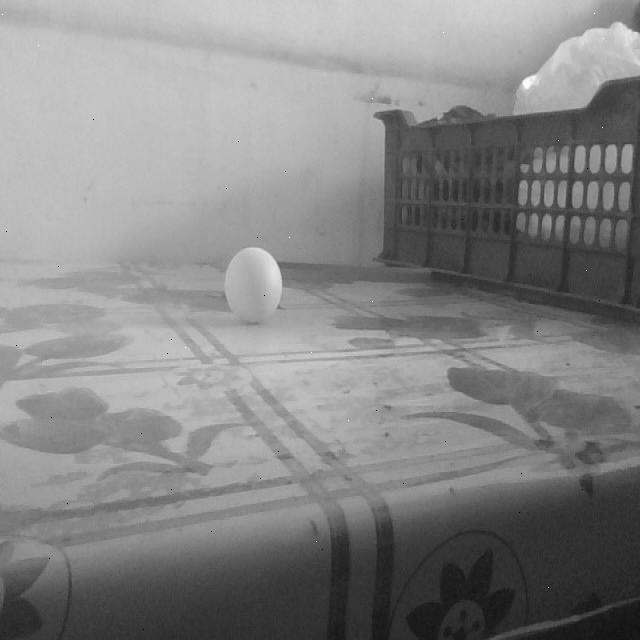ping-pong-ball: (224, 249, 280, 323)
